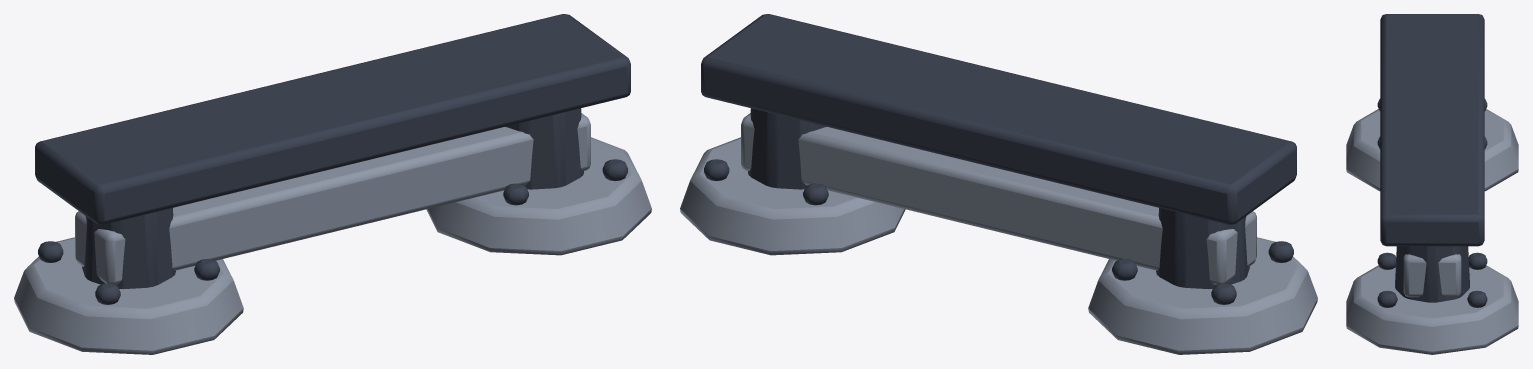
File: band_stuetze.fbx
3 views of the same model, side by side, from view 1: azimuth 30°, elevation 25°; view 2: azimuth 150°, elevation 25°; view 3: azimuth 270°, elevation 25° (orthographic). The views are drawn at different scales.
Visible parts, largest first — view 1: band_stuetze_Koerper; view 2: band_stuetze_Koerper; view 3: band_stuetze_Koerper.
Boxes of the visible parts, x1,y1,x2,y2 form: band_stuetze_Koerper: (14,14,651,354); band_stuetze_Koerper: (680,14,1317,354); band_stuetze_Koerper: (1346,14,1518,354).
Size of the model in its own units: 0.9536 by 0.24 by 0.2983.
